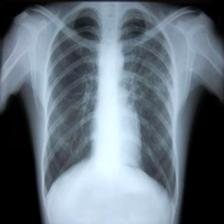tuberculosis: (37, 0, 180, 207)
